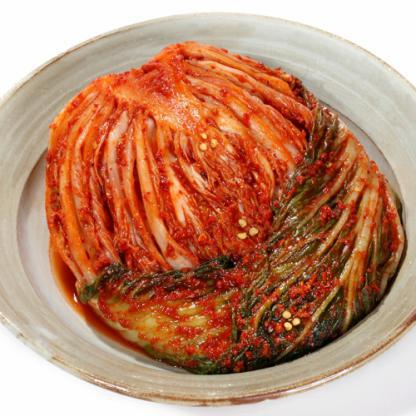kimchi: (44, 51, 410, 360)
